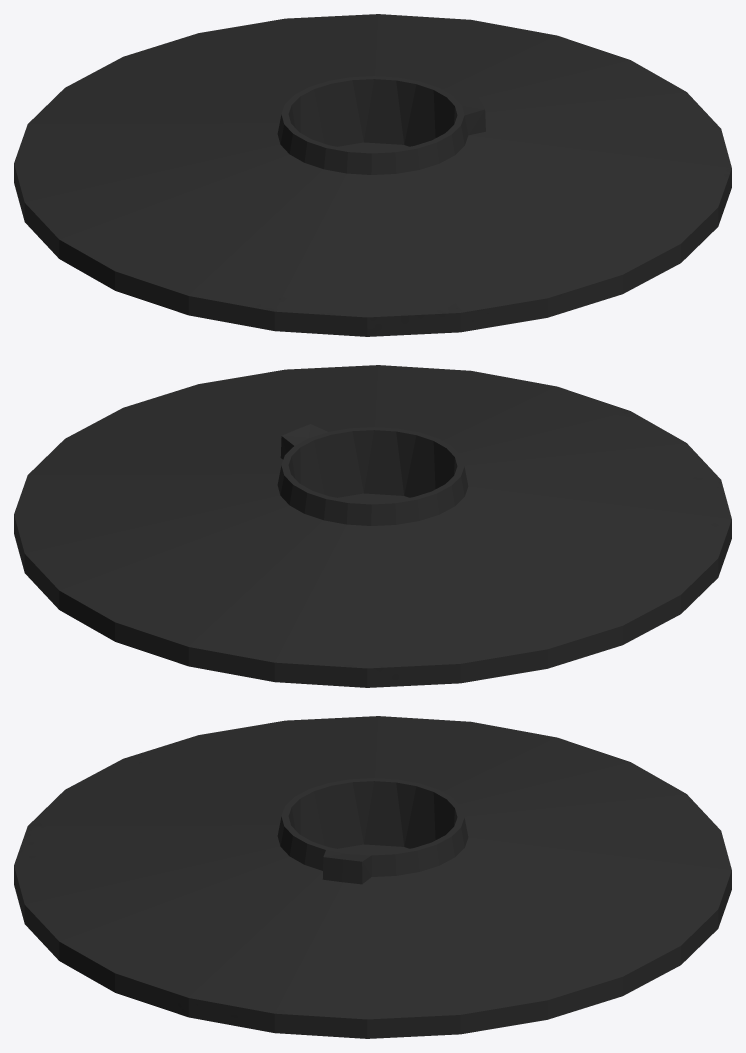
File: mesh2.dat.obj
3 renders of one model, top to bottom at view 1: azimuth 30°, elevation 25°; view 2: azimuth 150°, elevation 25°; view 3: azimuth 270°, elevation 25°, orthographic.
Visible parts, largest first — view 1: Metal_Disk_01_low; view 2: Metal_Disk_01_low; view 3: Metal_Disk_01_low.
Boxes of the visible parts, x1,y1,x2,y2 form: Metal_Disk_01_low: (14,14,731,336); Metal_Disk_01_low: (14,365,731,687); Metal_Disk_01_low: (14,716,731,1038).
Bounding box in the file's own units: 2.09 × 0.2343 × 2.09.
Materials: 1 (1 with a texture image).
